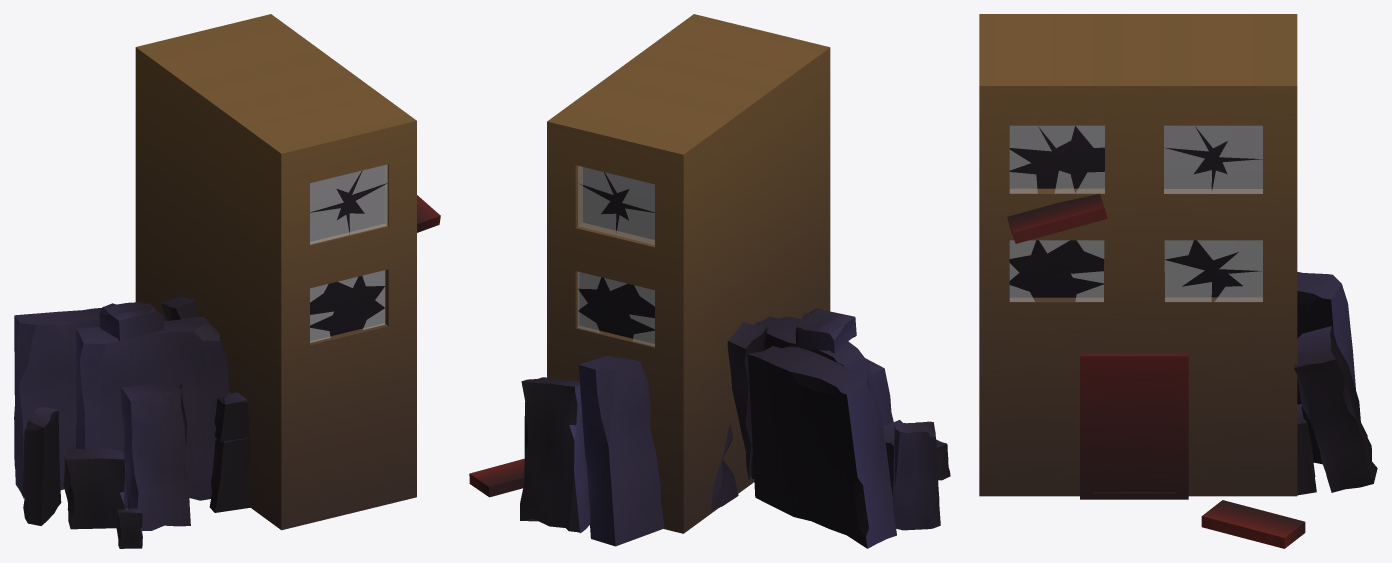
The model's file is props (3).fbx.
3 views of the same model, side by side, from view 1: azimuth 30°, elevation 25°; view 2: azimuth 150°, elevation 25°; view 3: azimuth 270°, elevation 25° (orthographic). The views are drawn at different scales.
Visible parts, largest first — view 1: house, cave.001; view 2: house, cave.001, cave; view 3: house, cave.
Boxes of the visible parts, bbox=[...] form: house: bbox=[135, 14, 440, 530]; cave.001: bbox=[14, 296, 250, 548]; house: bbox=[469, 14, 830, 533]; cave.001: bbox=[727, 308, 950, 548]; cave: bbox=[520, 355, 754, 546]; house: bbox=[979, 14, 1305, 548]; cave: bbox=[1294, 272, 1377, 495].
Bounding box in the file's own units: 2322 × 2123 × 1829.
